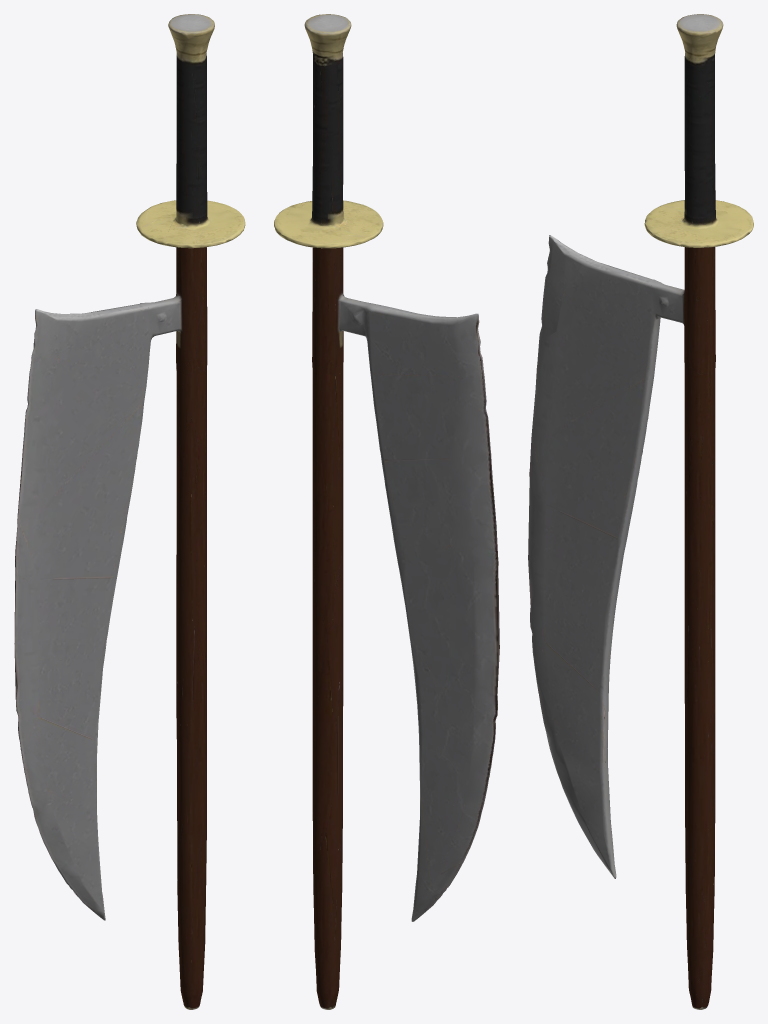
The model's file is wpn_dadao.glb.
3 views of the same model, side by side, from view 1: azimuth 30°, elevation 25°; view 2: azimuth 150°, elevation 25°; view 3: azimuth 330°, elevation 25° (orthographic).
Bounding box in the file's own units: 0.4459 × 1.9 × 0.1902.
Materials: 1 (1 with a texture image).
